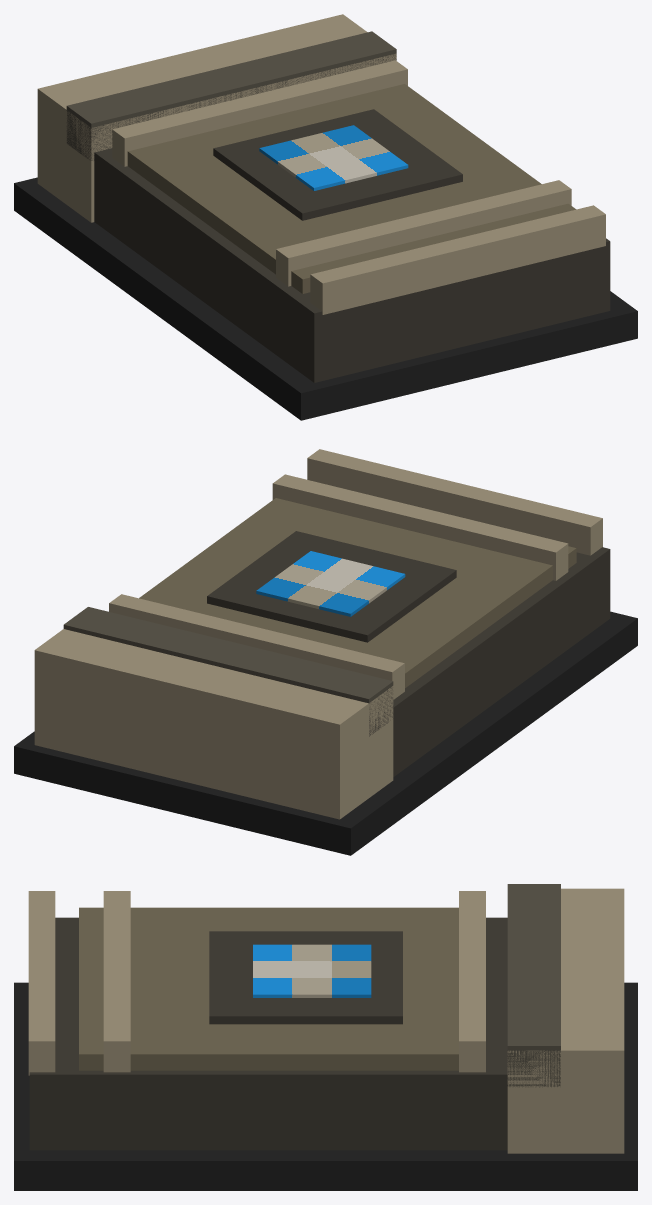
File: CMU3DAU14PouchIFAKFillWorldCloud.glb
3 renders of one model, top to bottom at view 1: azimuth 30°, elevation 25°; view 2: azimuth 150°, elevation 25°; view 3: azimuth 270°, elevation 25°, orthographic. The views are drawn at different scales.
Visible parts, largest first — view 1: medical pouch bag volume, medical pouch broad front cloth, medical pouch sewn backing, attached upper flap, continuous source tan binding 24.0, upper flap shadow edge, medical badge cloth backing, continuous source tan binding 22.1, continuous source tan binding 13.1, original blue medical badge; view 2: attached upper flap, medical pouch sewn backing, medical pouch broad front cloth, medical pouch bag volume, medical badge cloth backing, continuous source tan binding 24.0, upper flap shadow edge, continuous source tan binding 22.1, continuous source tan binding 13.1, original blue medical badge; view 3: medical pouch bag volume, medical pouch broad front cloth, medical pouch sewn backing, attached upper flap, medical badge cloth backing, upper flap shadow edge, original blue medical badge, continuous source tan binding 24.0, continuous source tan binding 22.1, continuous source tan binding 13.1.
Boxes of the visible parts, box(x1,y1,x2,y2) form: medical pouch bag volume: box(94, 148, 610, 382); medical pouch broad front cloth: box(127, 84, 576, 293); medical pouch sewn backing: box(14, 177, 637, 420); attached upper flap: box(37, 14, 396, 222); continuous source tan binding 24.0: box(310, 205, 605, 314); upper flap shadow edge: box(66, 31, 396, 160); medical badge cloth backing: box(213, 109, 462, 220); continuous source tan binding 22.1: box(276, 180, 571, 286); continuous source tan binding 13.1: box(112, 60, 407, 166); original blue medical badge: box(259, 125, 408, 190); attached upper flap: box(34, 629, 393, 819); medical pouch sewn backing: box(14, 611, 637, 855); medical pouch broad front cloth: box(139, 498, 576, 687); medical pouch bag volume: box(393, 547, 610, 776); medical badge cloth backing: box(207, 531, 456, 642); continuous source tan binding 24.0: box(307, 449, 602, 555); upper flap shadow edge: box(63, 607, 393, 736); continuous source tan binding 22.1: box(272, 474, 568, 580); continuous source tan binding 13.1: box(109, 594, 404, 699); original blue medical badge: box(256, 551, 405, 616); medical pouch bag volume: box(29, 917, 507, 1150); medical pouch broad front cloth: box(79, 907, 458, 1070); medical pouch sewn backing: box(14, 982, 637, 1190); attached upper flap: box(507, 888, 624, 1153); medical badge cloth backing: box(209, 931, 402, 1024); upper flap shadow edge: box(507, 884, 560, 1087); original blue medical badge: box(253, 944, 371, 997); continuous source tan binding 24.0: box(28, 891, 55, 1075); continuous source tan binding 22.1: box(103, 891, 130, 1072); continuous source tan binding 13.1: box(459, 891, 485, 1072).
Size of the model in its own units: 0.3344 by 0.12 by 0.4938.
Materials: 6 (1 with a texture image).
